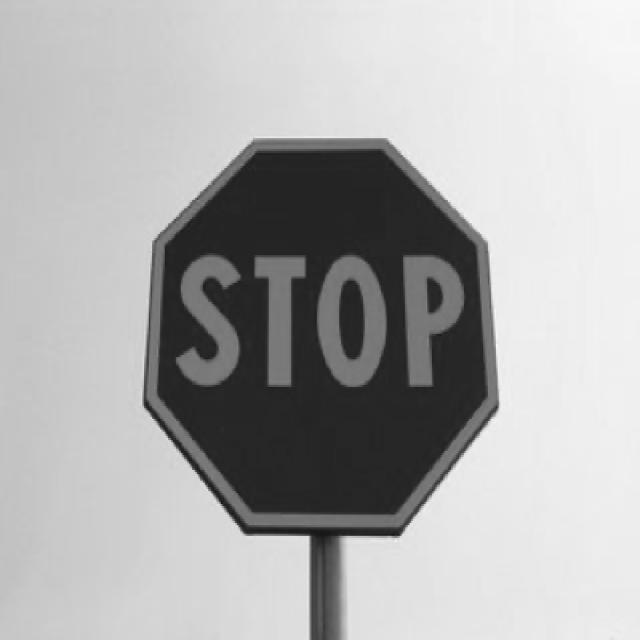Stop-signs: (145, 137, 498, 528)
